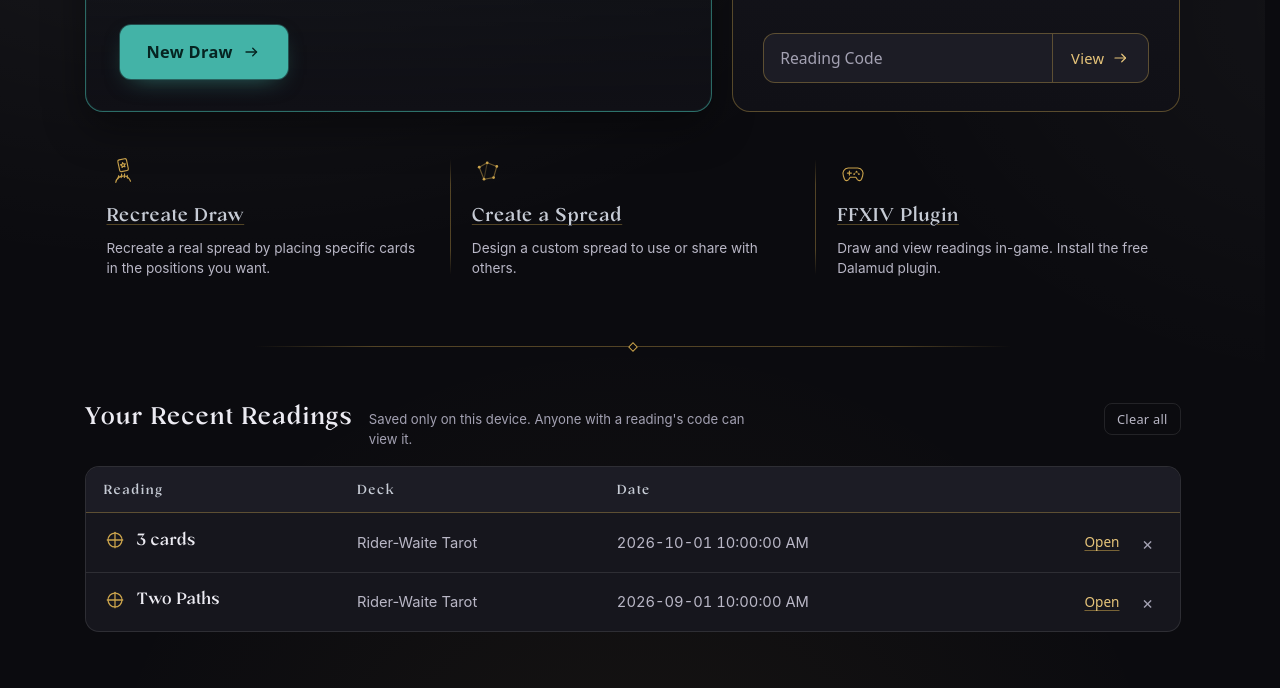
Test case: HomeView › recent readings › clears the whole history once the user confirms
The width and height of the screenshot is (1280, 688).
(page scrolled)
Click the button "Clear all".
click(1142, 419)  # box left=1104, top=403, right=1180, bottom=435
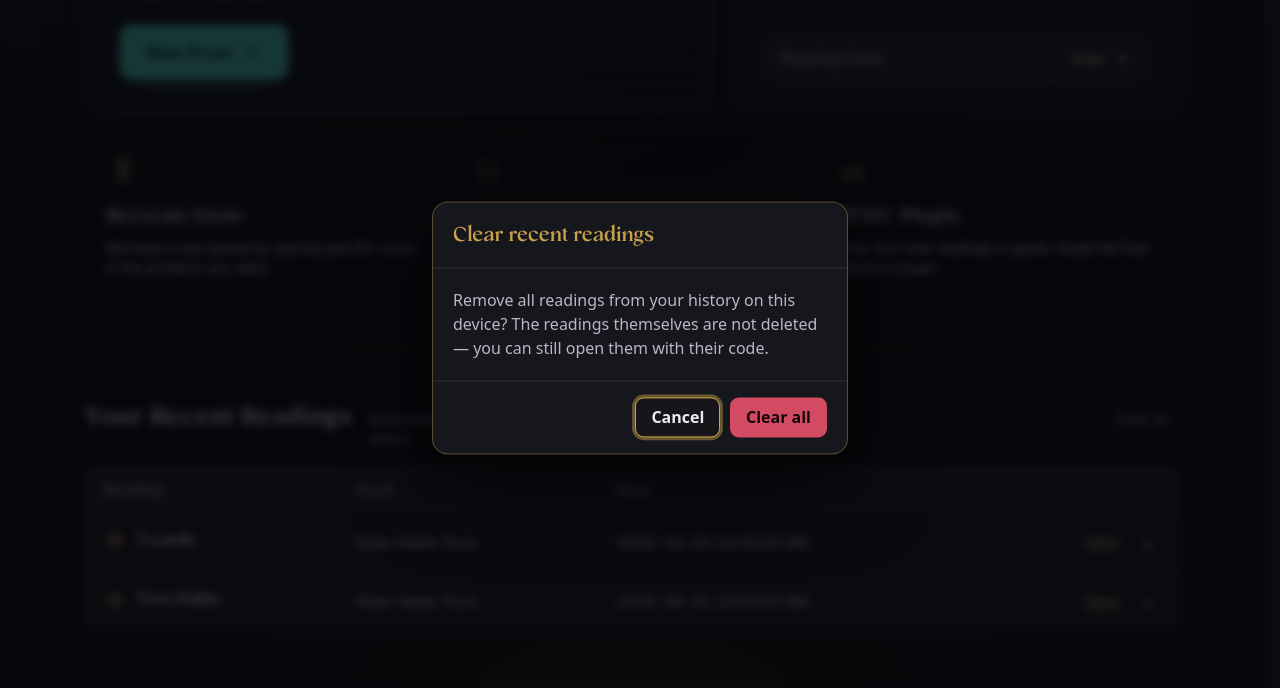
Click the button "Clear all".
click(778, 418)  # box left=730, top=398, right=827, bottom=438
(page scrolled)
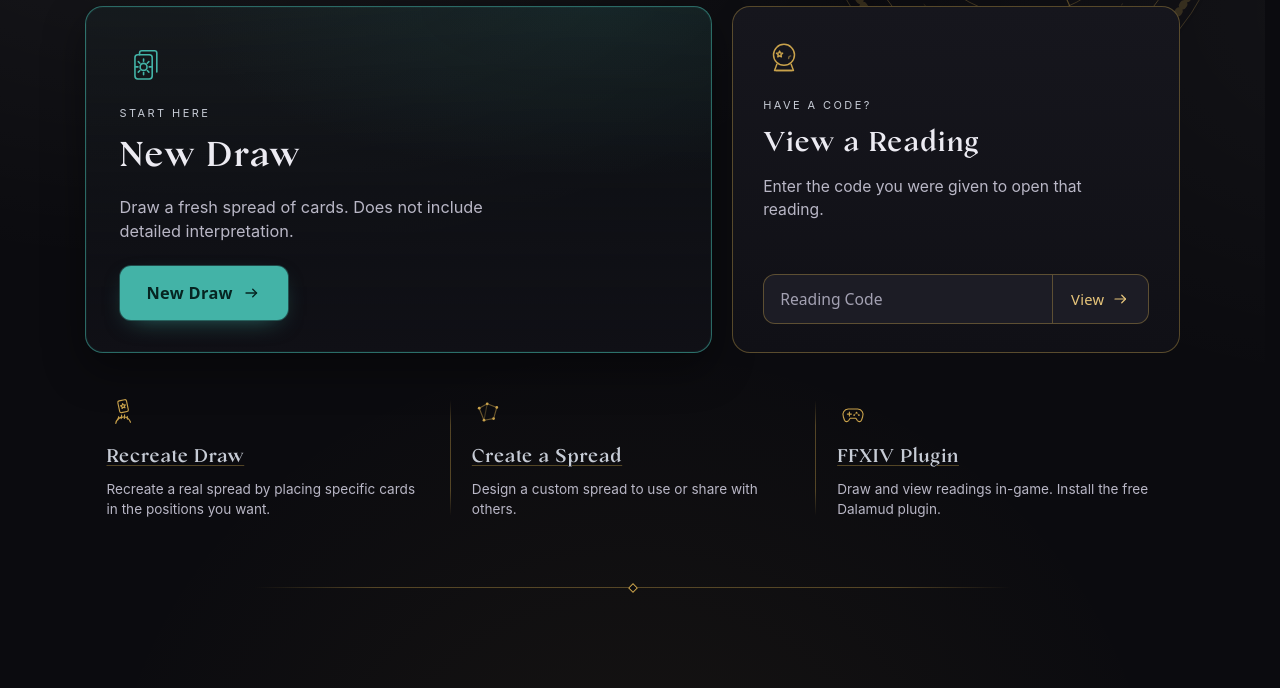
Expected: the text "Your Recent Readings" is gone
